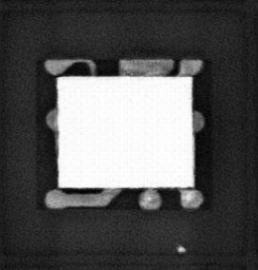DIE_INK: (175, 242, 187, 256)
